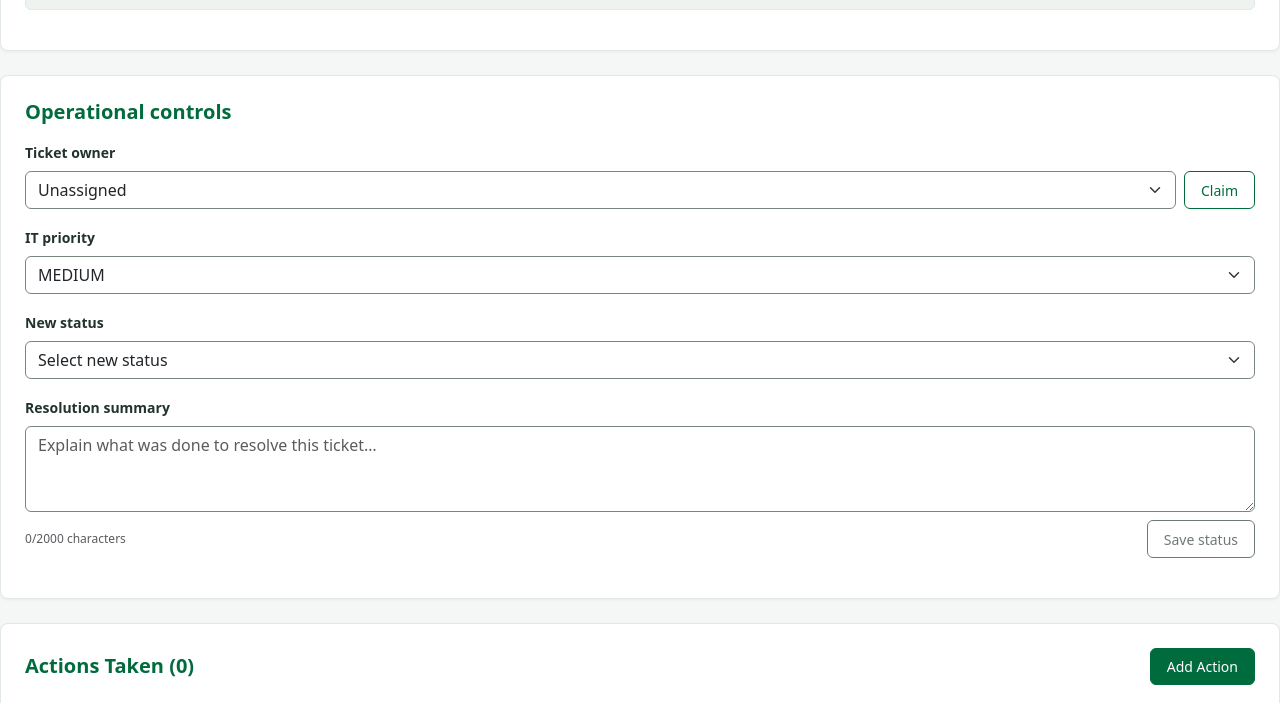
Scenario: TicketWorkflow (C4-04, AC-07, AC-08, AC-14) › requires a resolution summary and keeps the server action-result gate visible
This screenshot has width=1280, height=703.
(page scrolled)
Select "RESOLVED" in the dropdown labelled "New status" at (640, 360), box [25,341,1255,379]
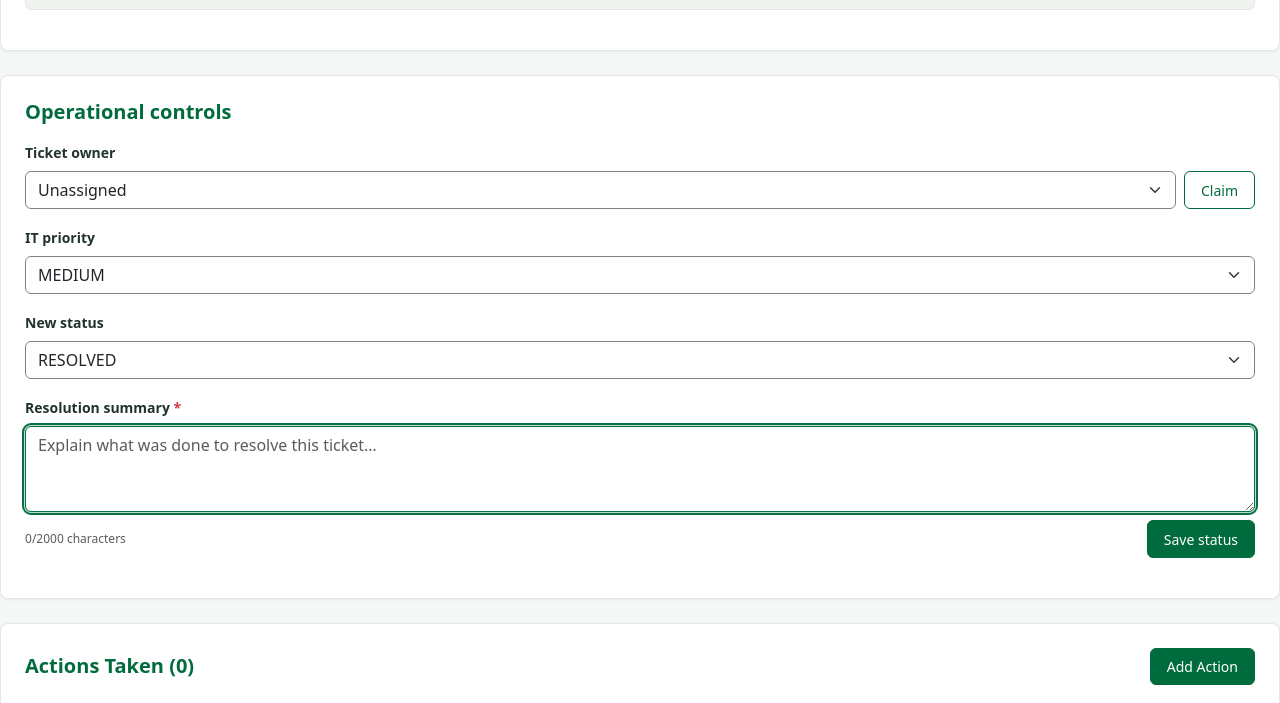
Click the button with test id "status-save-btn" at (1201, 539), box [1147,520,1255,558]
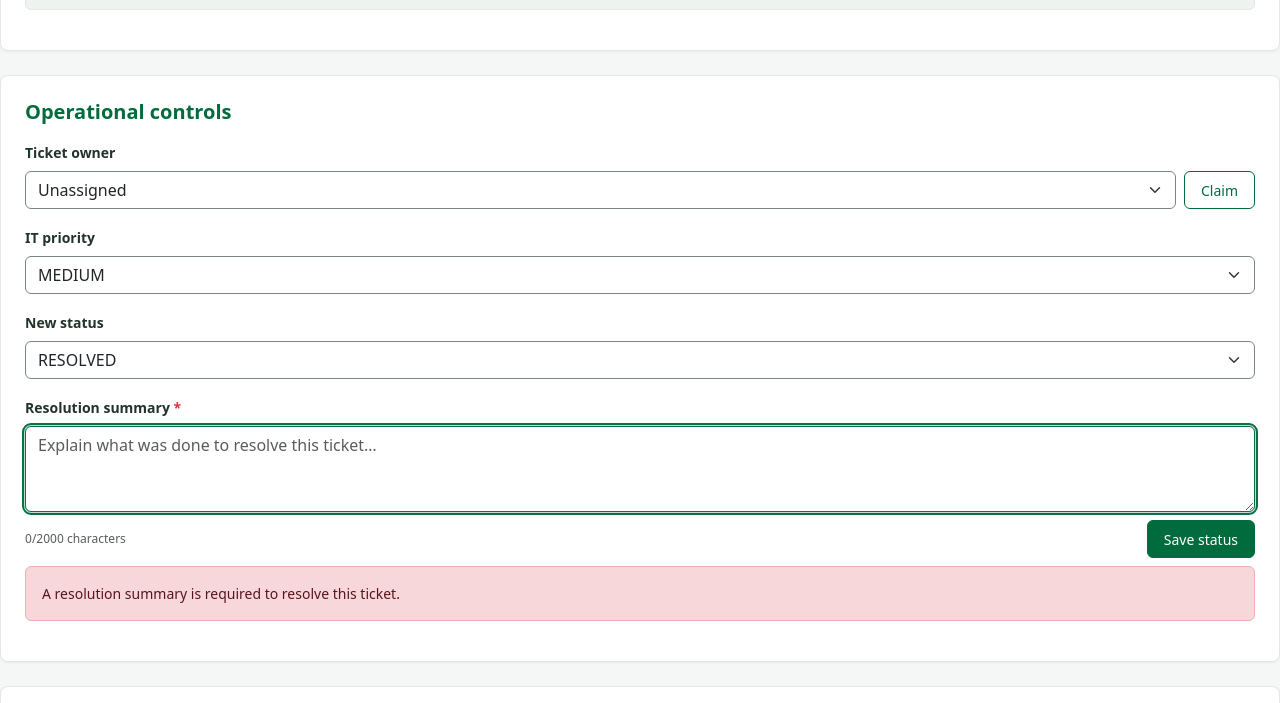
Expected: the message with test id "status-validation-error" shows "A resolution summary is required", [42,584,400,603]
Type "  Verified the network fix.  " into the text box with test id "resolution-summary-input" at (640, 469), box [25,426,1255,512]
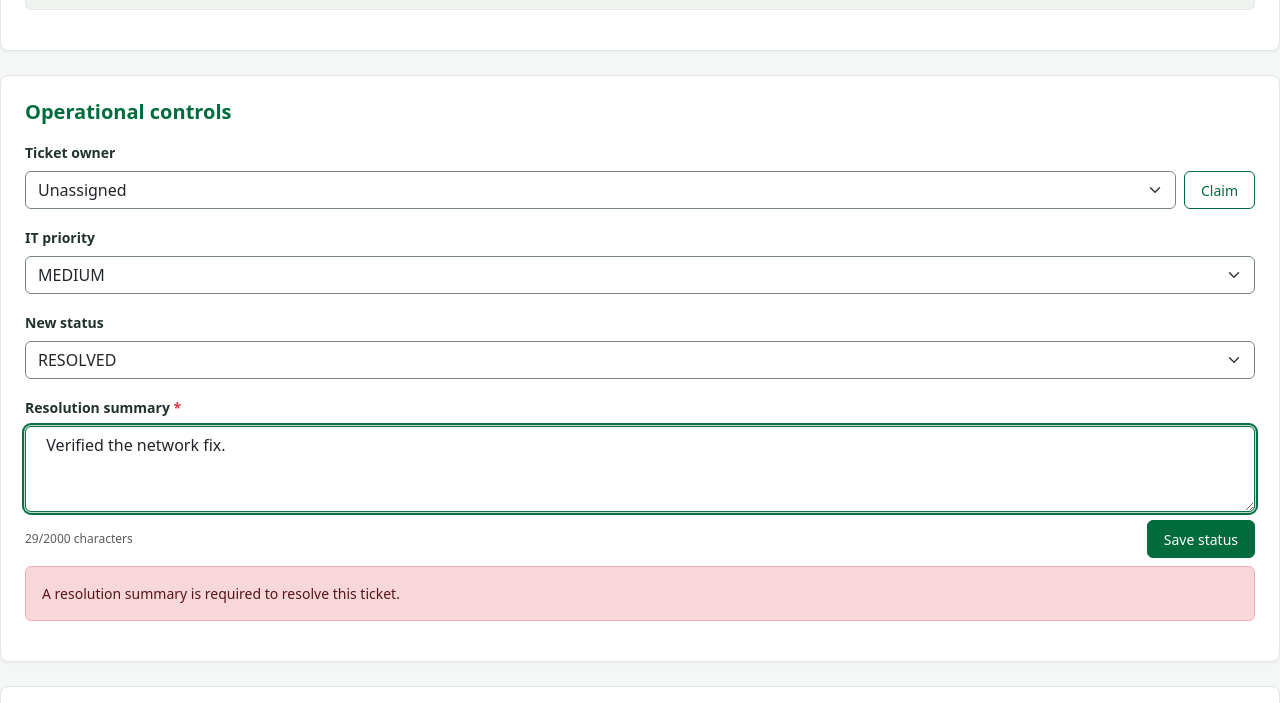
Click the button with test id "status-save-btn" at (1201, 539), box [1147,520,1255,558]
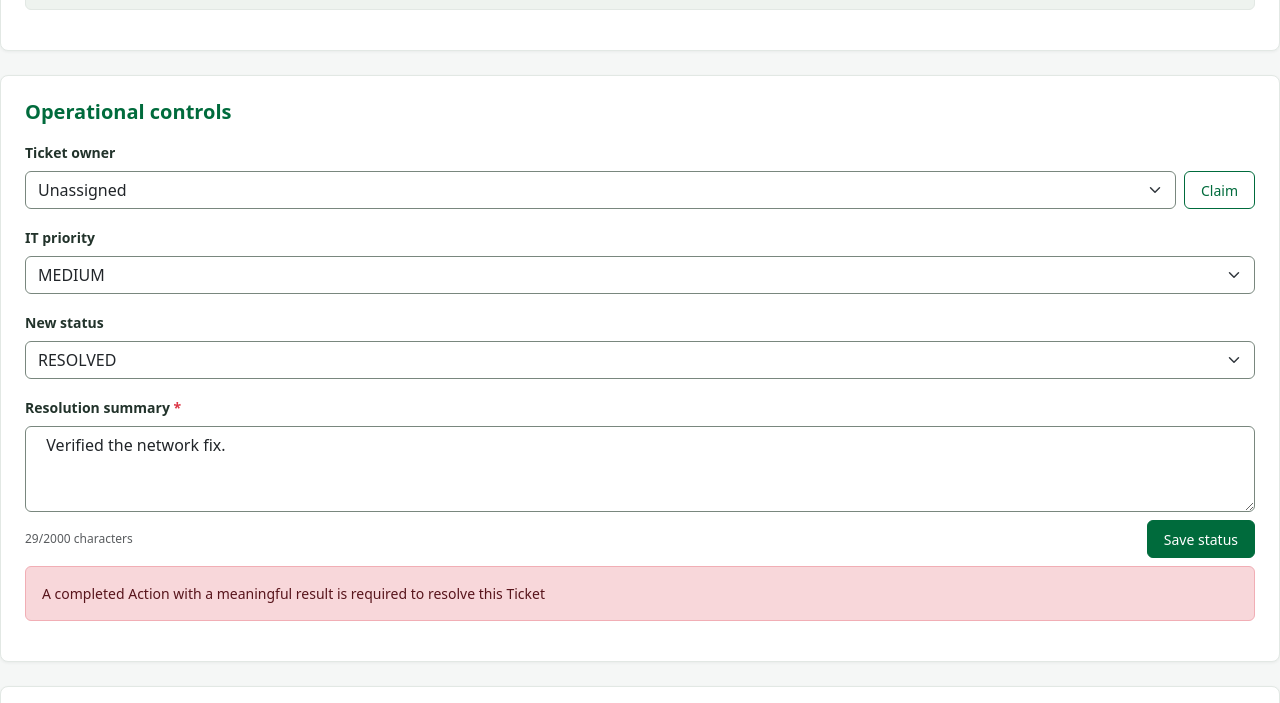
Expected: the message with test id "status-error" shows "A completed Action with a meaningful result is required", [42,584,545,603]
